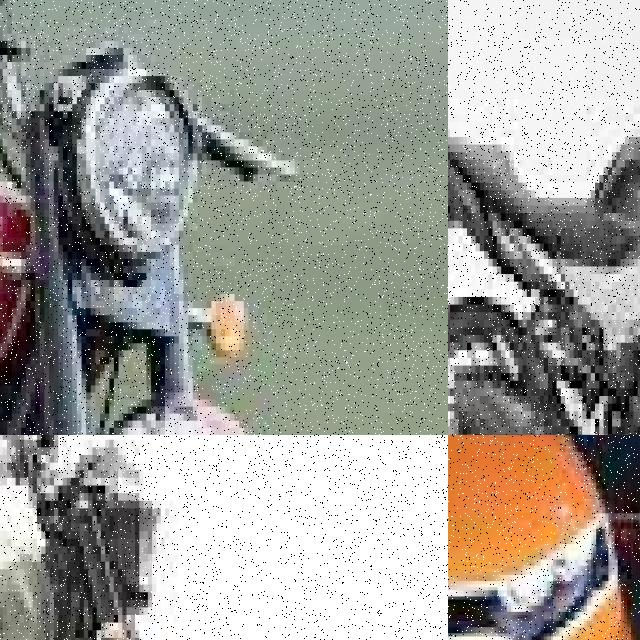bike: (0, 0, 290, 435), (0, 435, 361, 640), (448, 91, 640, 435)
car: (448, 435, 640, 640)
